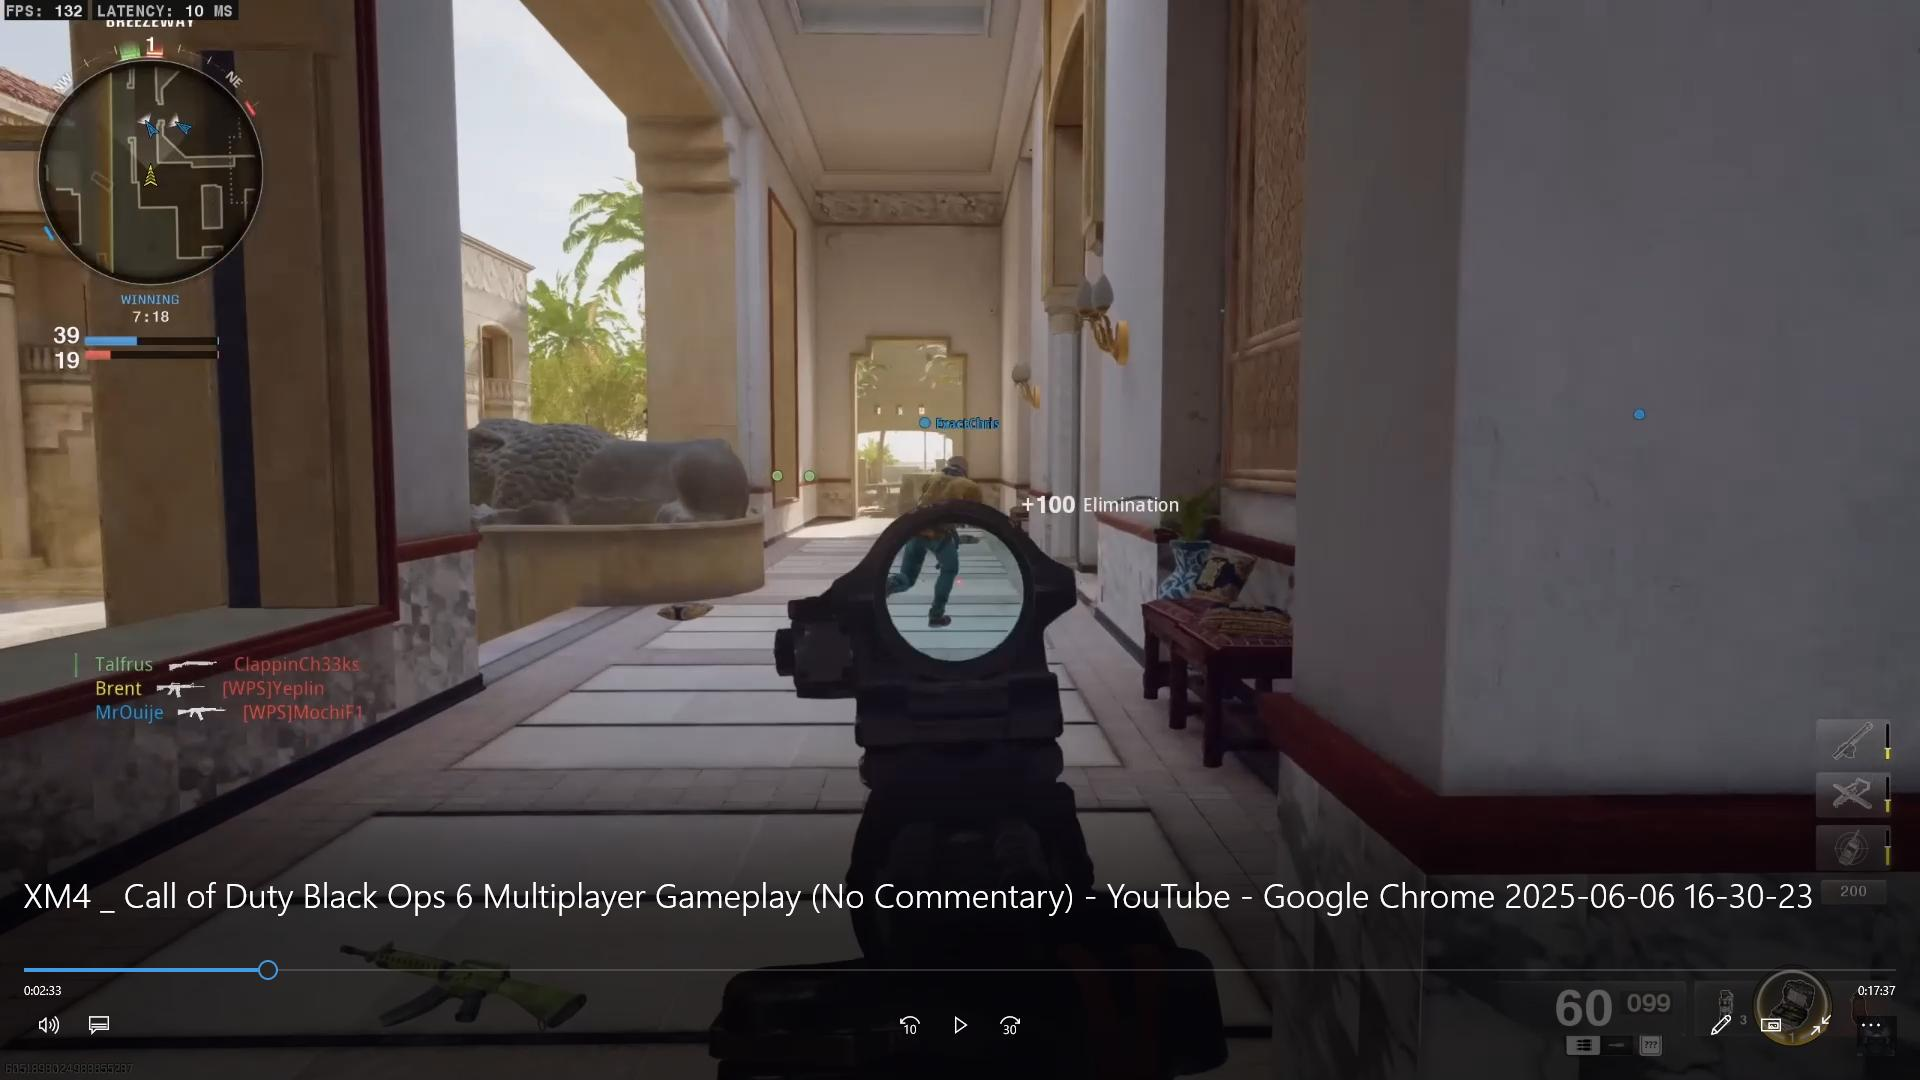Enemy: (923, 439, 996, 508)
